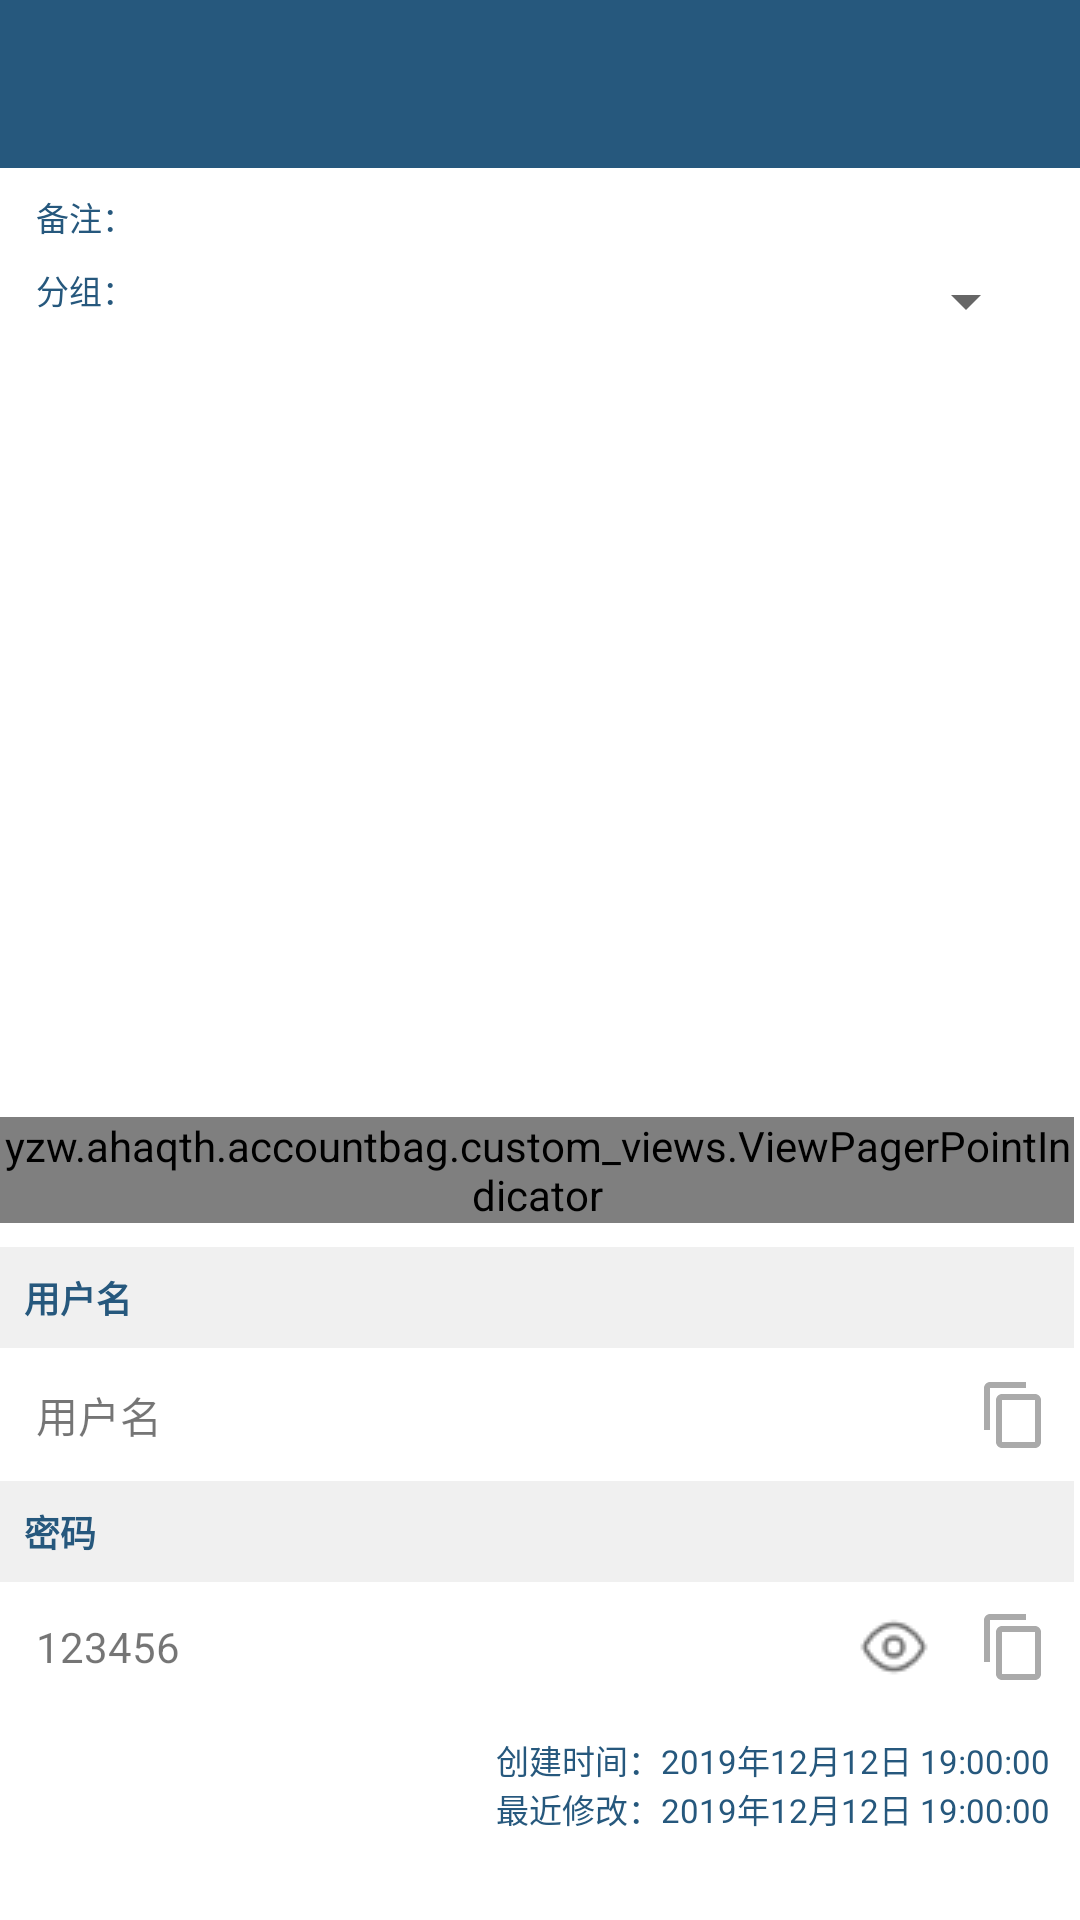

Point at icon controls on the screen. Image size 1080*1920, points as point (x, y).
view: point (894, 1647)
